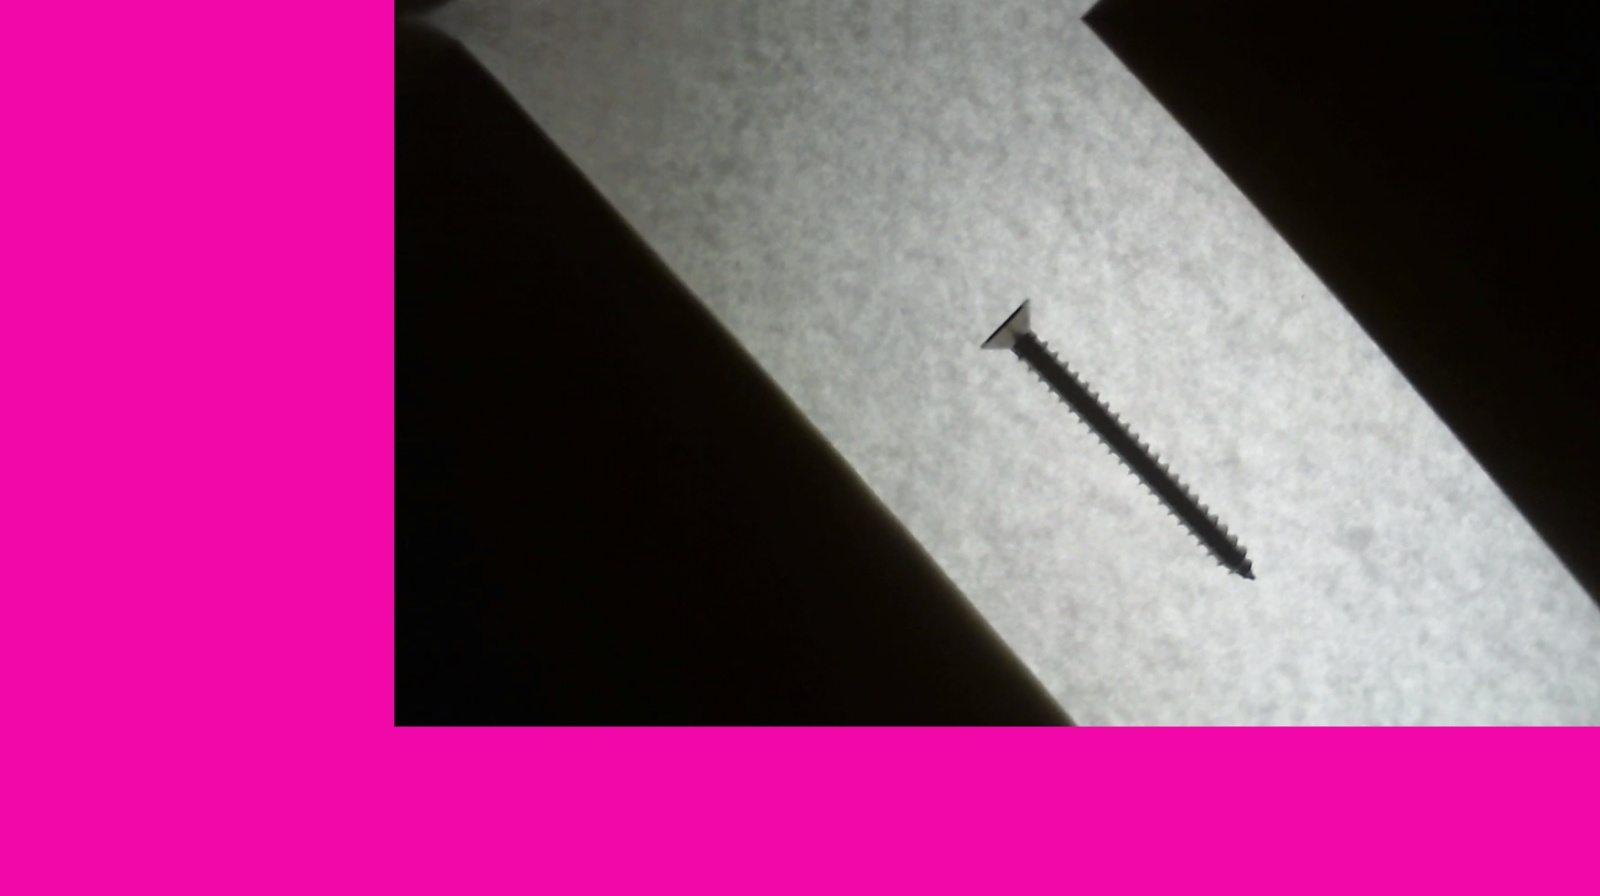S002: (957, 288, 1268, 601)
